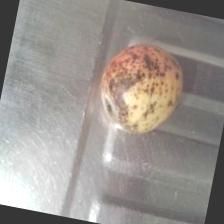Mango Overripe: (91, 32, 192, 139)
